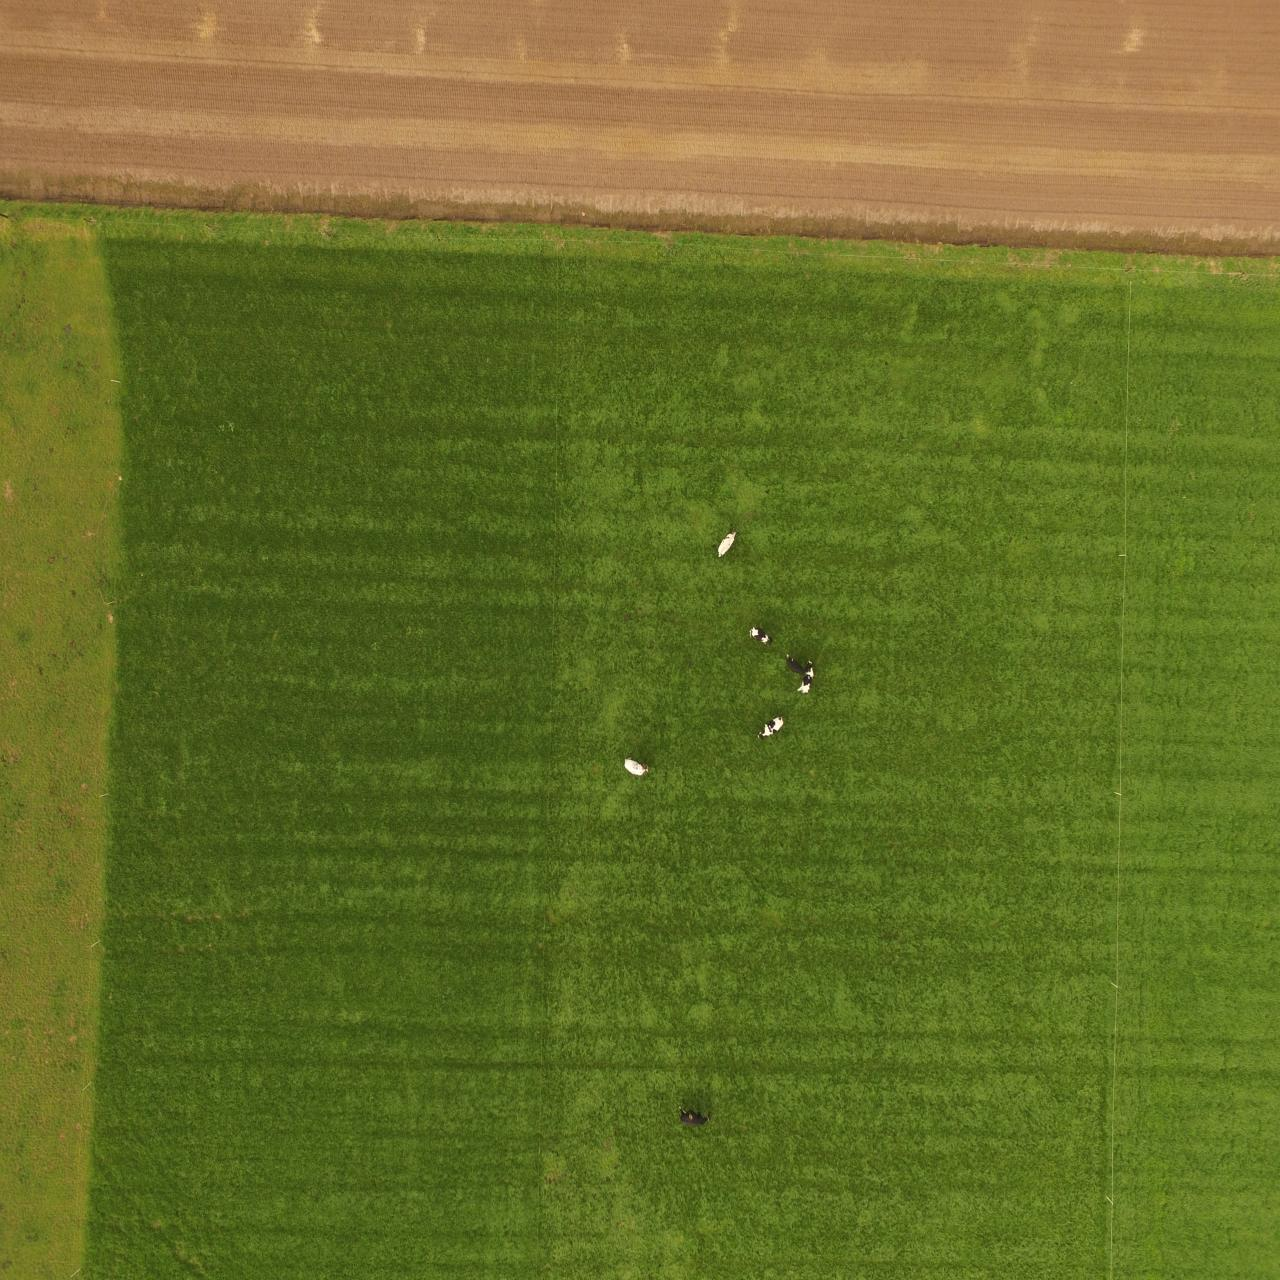cow: (797, 655, 822, 701), (675, 1099, 713, 1128), (710, 525, 740, 559), (758, 713, 785, 742), (620, 756, 652, 781), (784, 653, 805, 679), (748, 628, 771, 646)
